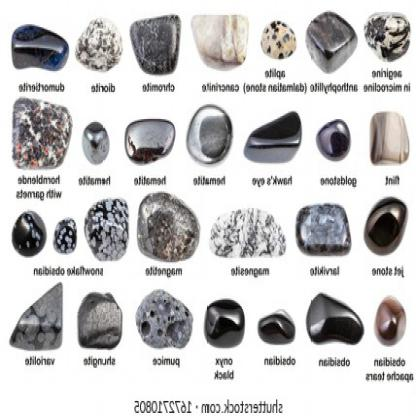Igneous_Diorite: (75, 12, 124, 81)
